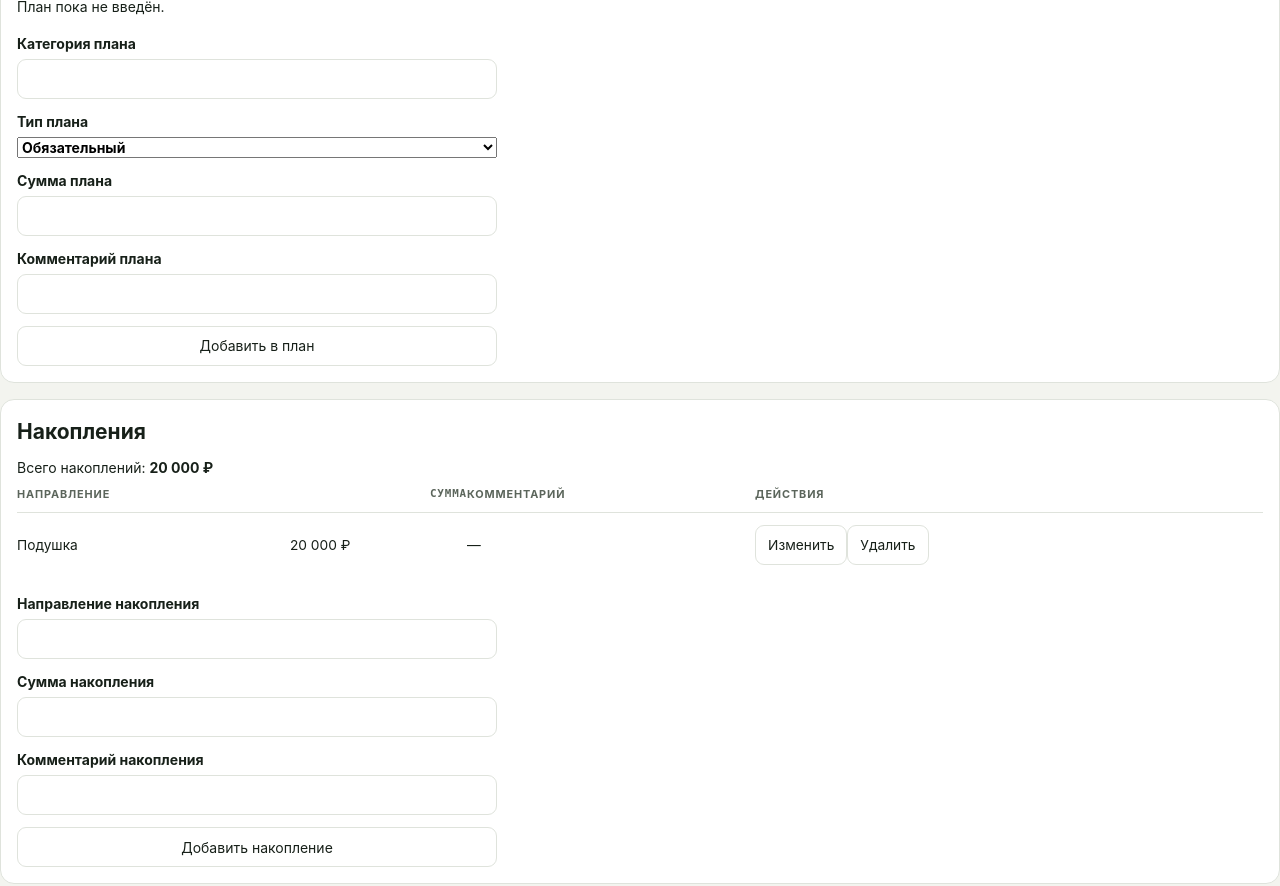
UiV2MonthBudgetSection mutations and guards › deletes a saving only after confirmation and rereads
(page scrolled)
Click the button "Удалить" at [888, 545], box [847,525,928,565]
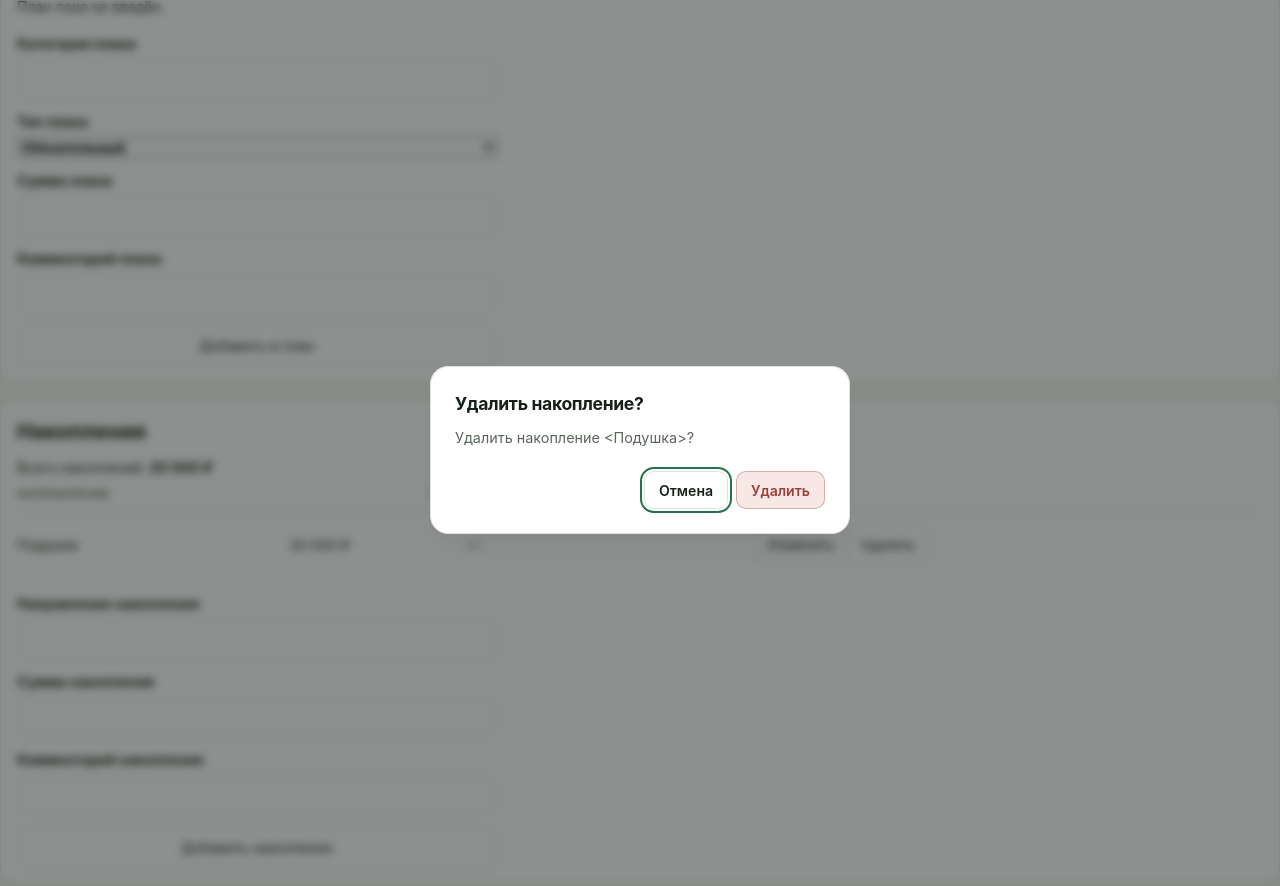
Click the button "Удалить" at [781, 490], box [736,471,825,509]
(page scrolled)
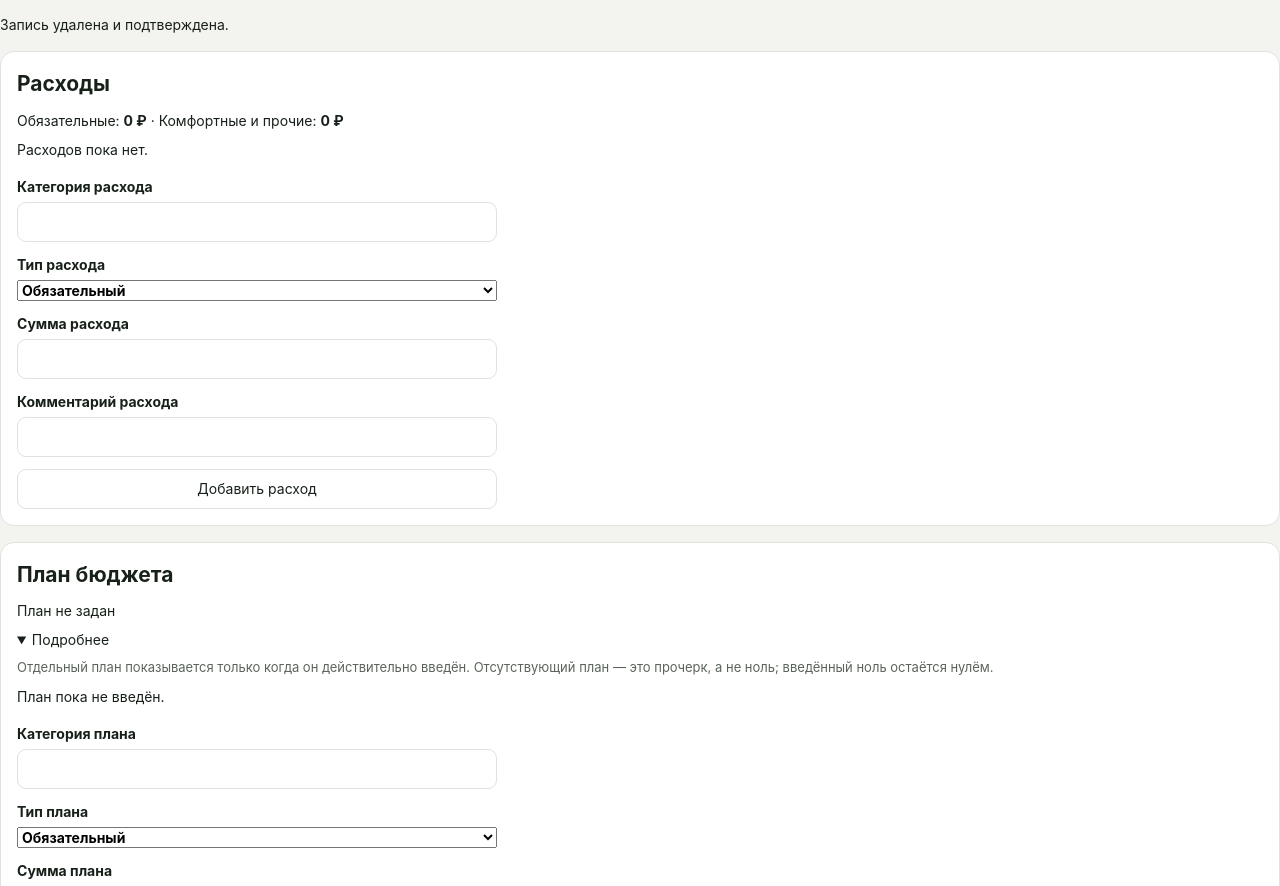
expect the text "Запись удалена и подтверждена." is shown: met, box [0,16,229,33]
expect the heading "Удалить накопление?" is gone: met
